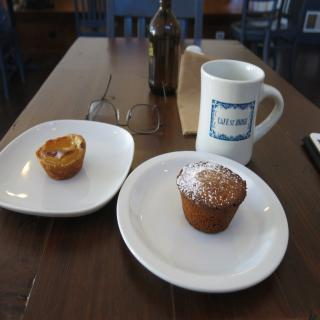Muffin: (178, 163, 250, 235), (34, 133, 88, 182)
